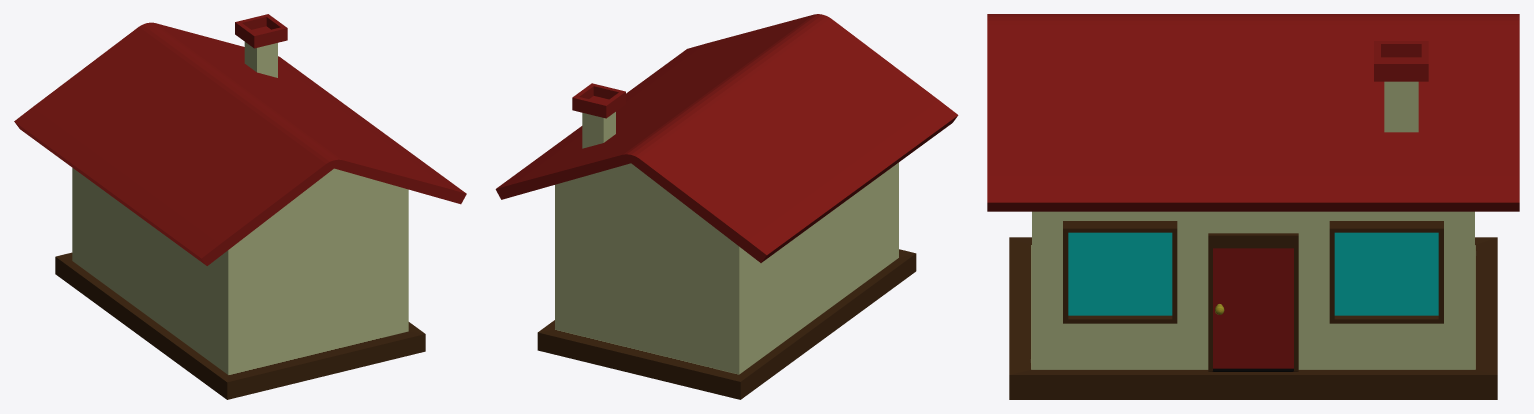
The model's file is house1.fbx.
The picture shows the model from 3 angles, left to right: view 1: azimuth 30°, elevation 25°; view 2: azimuth 150°, elevation 25°; view 3: azimuth 270°, elevation 25°; orthographic projection. The views are drawn at different scales.
Parts seen in each view (by area): view 1: house1; view 2: house1; view 3: house1.
Part boxes in pixels (left/top/right/bottom): house1: left=14, top=14, right=466, bottom=399; house1: left=495, top=14, right=958, bottom=399; house1: left=987, top=14, right=1519, bottom=399.
Bounding box in the file's own units: 589 × 492 × 721.
